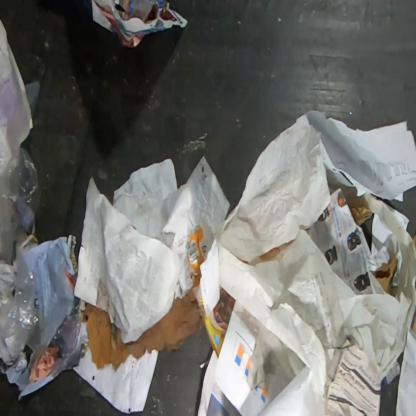cardboard: (80, 288, 204, 372), (200, 286, 235, 357), (188, 225, 206, 289), (413, 234, 415, 250)
soft_plastic: (0, 21, 39, 369)
